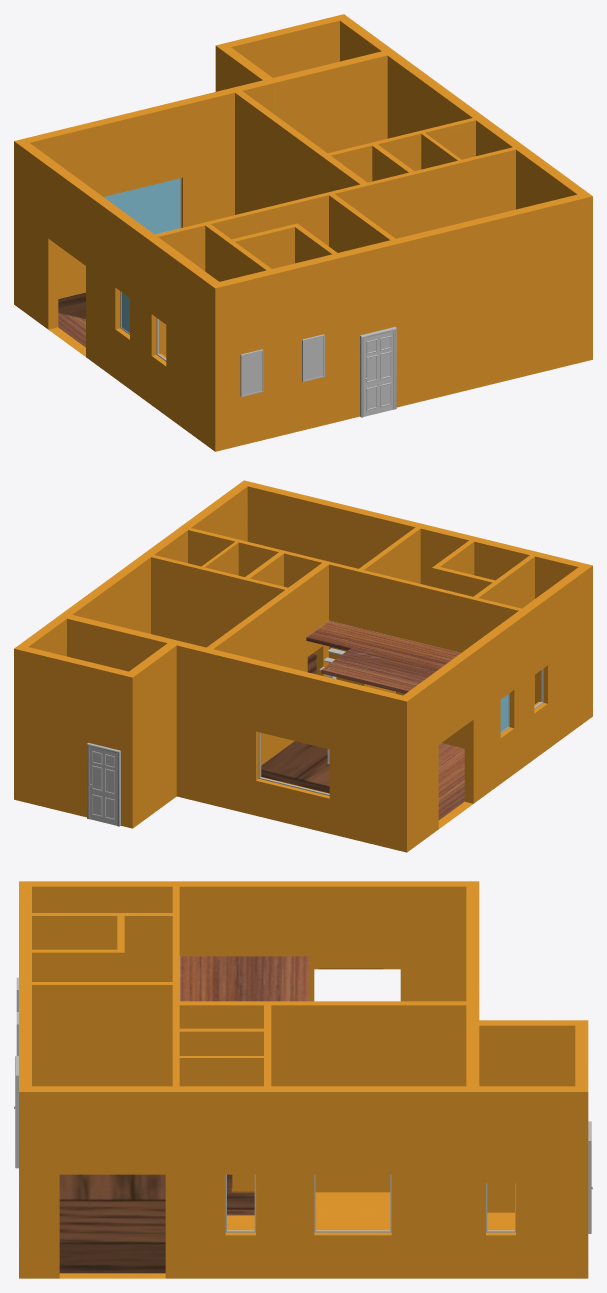
The model's file is 3ddD.glb.
3 renders of one model, top to bottom at view 1: azimuth 30°, elevation 25°; view 2: azimuth 150°, elevation 25°; view 3: azimuth 270°, elevation 25°, orthographic. The views are drawn at different scales.
Parts seen in each view (by area): view 1: 3D.4; view 2: 3D.4; view 3: 3D.4.
Part boxes in pixels (<box>): 3D.4: <box>14,14,592,451</box>; 3D.4: <box>14,480,592,852</box>; 3D.4: <box>14,881,592,1278</box>.
Size of the model in its own units: 593 by 245 by 688.
Materials: 1 (1 with a texture image).
